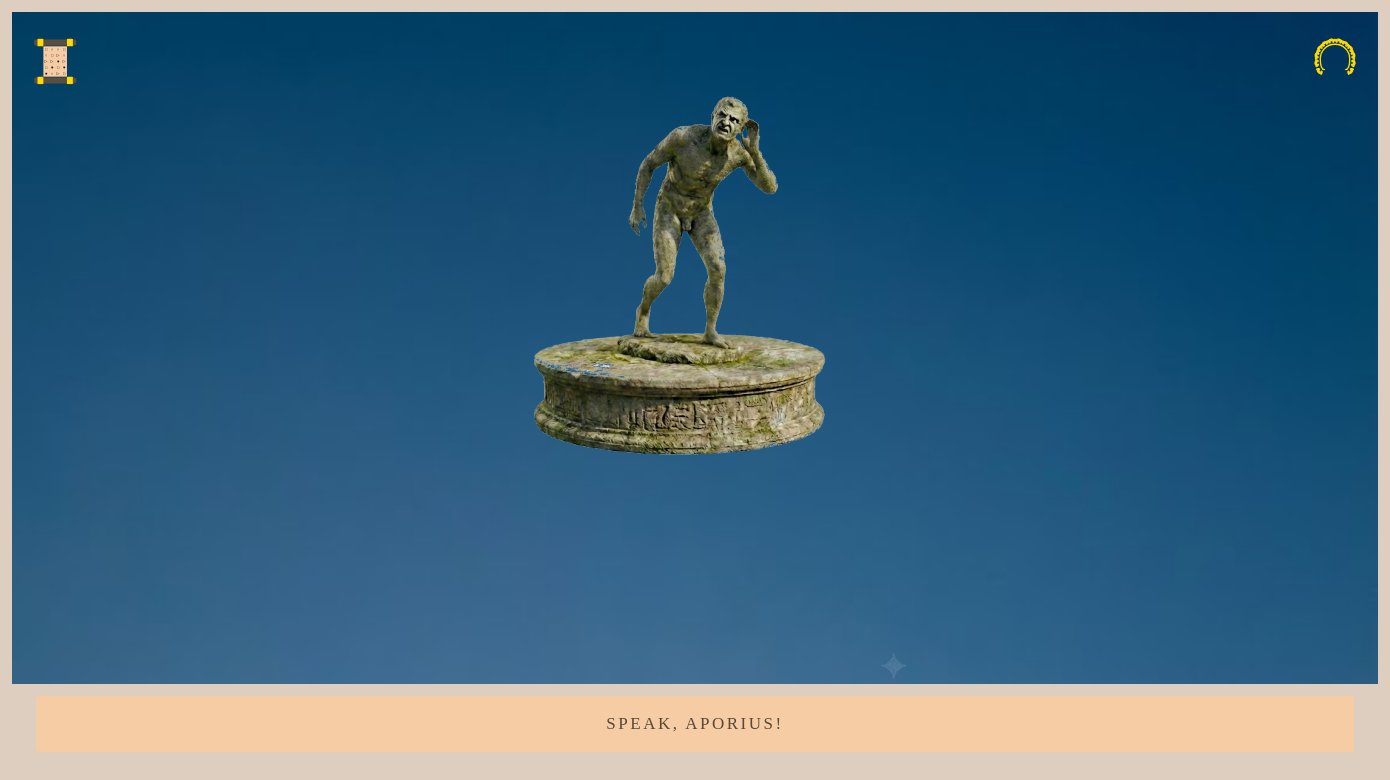
Test: a complete turn › recovers when playback errors midway
Click the button "SPEAK, APORIUS!" at (695, 724), box [36,696,1354,752]
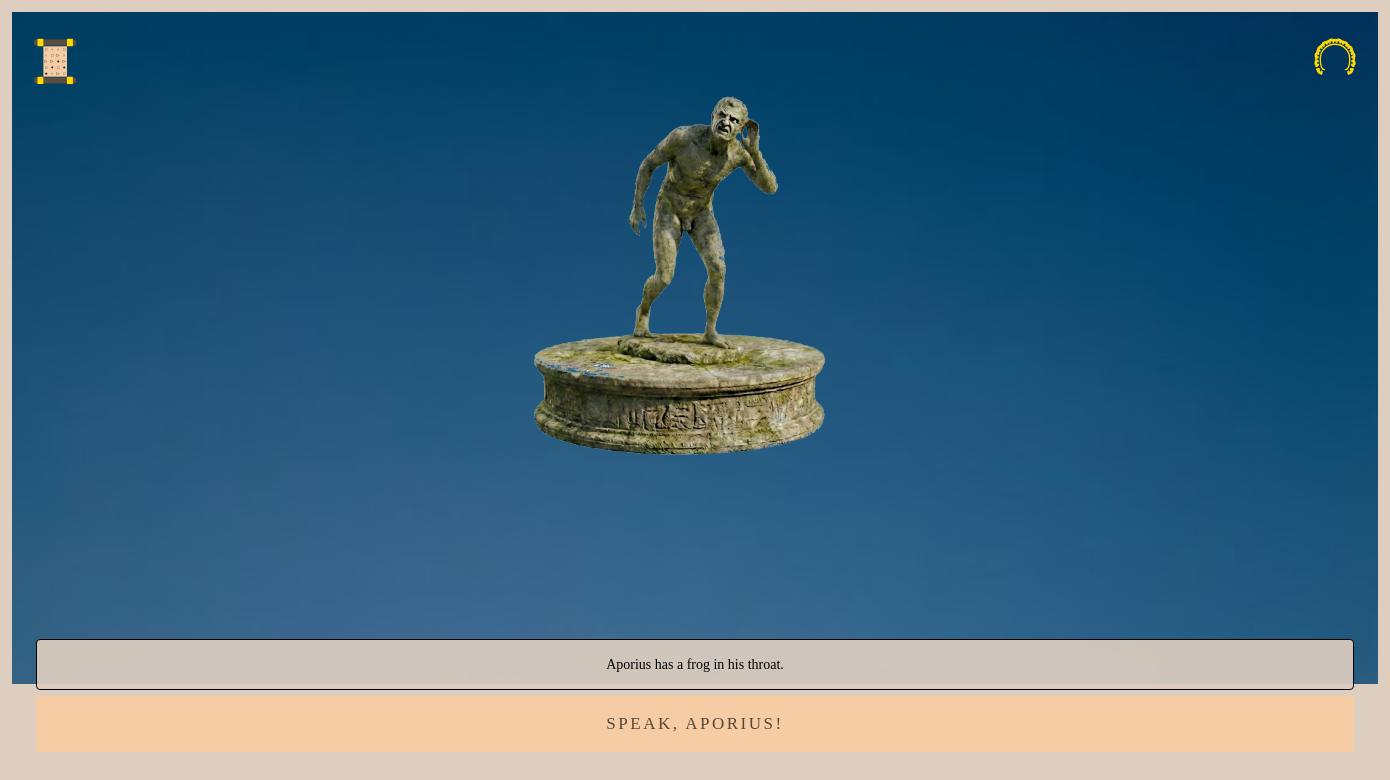
Result: the text "Aporius has a frog in his throat." is shown at [36,639,1354,690]
